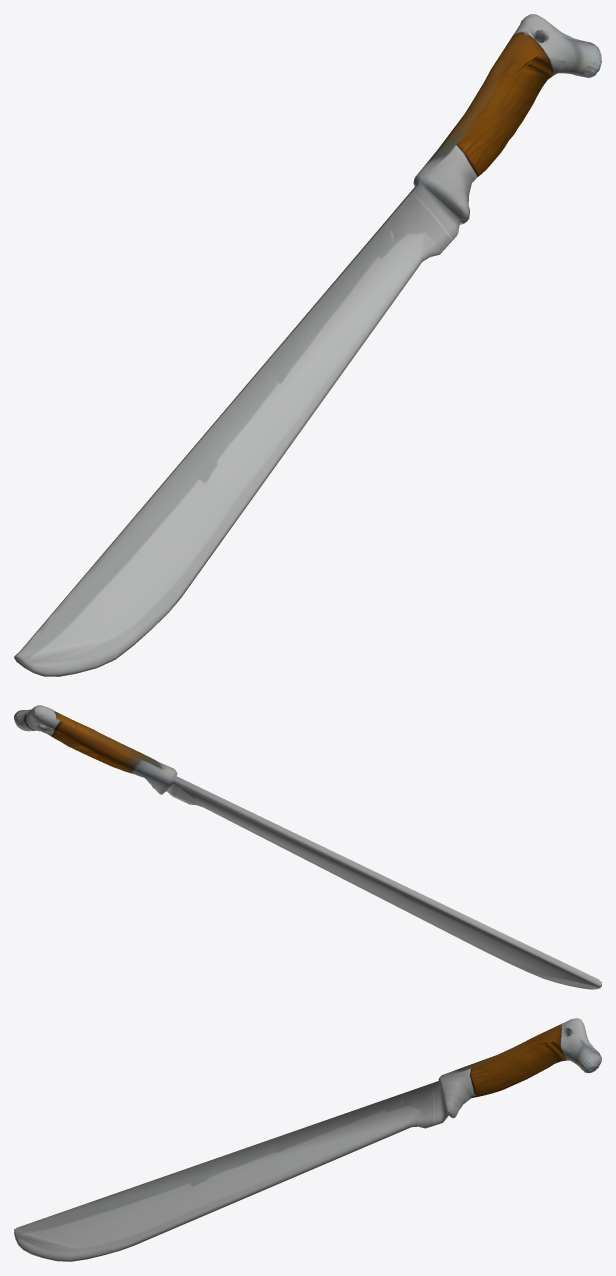
The model's file is Machete.fbx.
The picture shows the model from 3 angles, top to bottom: view 1: azimuth 30°, elevation 25°; view 2: azimuth 150°, elevation 25°; view 3: azimuth 330°, elevation 25°; orthographic projection. The views are drawn at different scales.
Parts seen in each view (by area): view 1: texture_pbr_v128; view 2: texture_pbr_v128; view 3: texture_pbr_v128.
Part boxes in pixels (box(x1,y1,x2,y2)): texture_pbr_v128: box(14, 14, 601, 676); texture_pbr_v128: box(14, 705, 601, 989); texture_pbr_v128: box(14, 1018, 601, 1261).
Size of the model in its own units: 104 by 52.39 by 42.8.
Materials: 1 (1 with a texture image).
